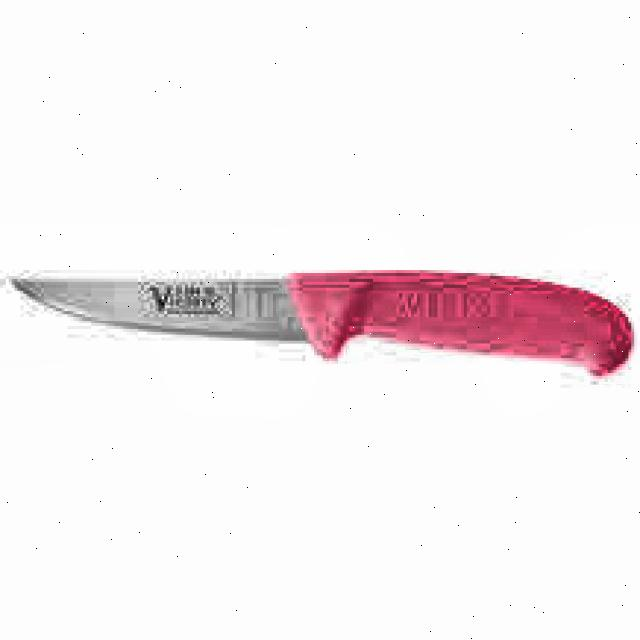knife: (13, 271, 633, 380)
